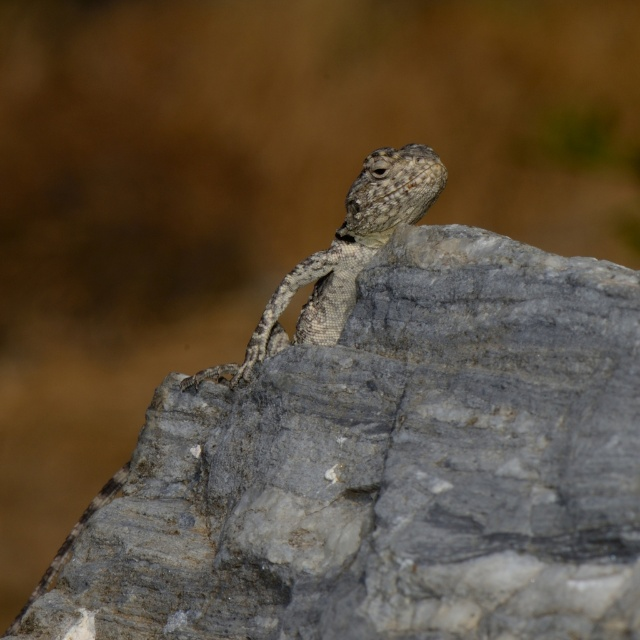Lizard: (236, 138, 449, 378)
